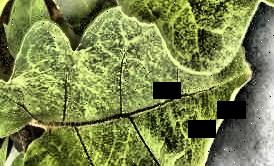HEALTHY: (0, 0, 274, 165)
